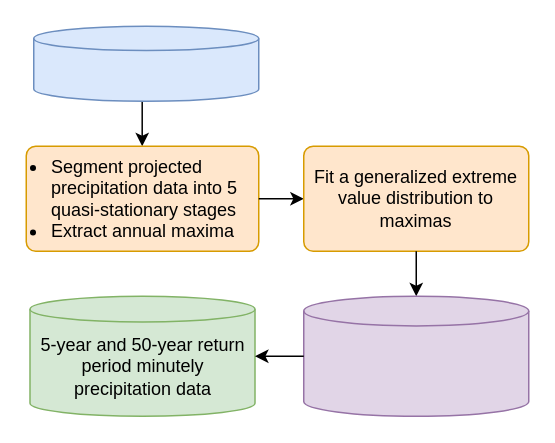
The diagram is 555 pixels wide and 443 high, and some of its shapes have lost their labels. Each missing label, with the centre of its shape:
"5-year and 50-year return period daily precipitation data" goes at point 415,355.
"Daily precipitation data" goes at point 145,63.
